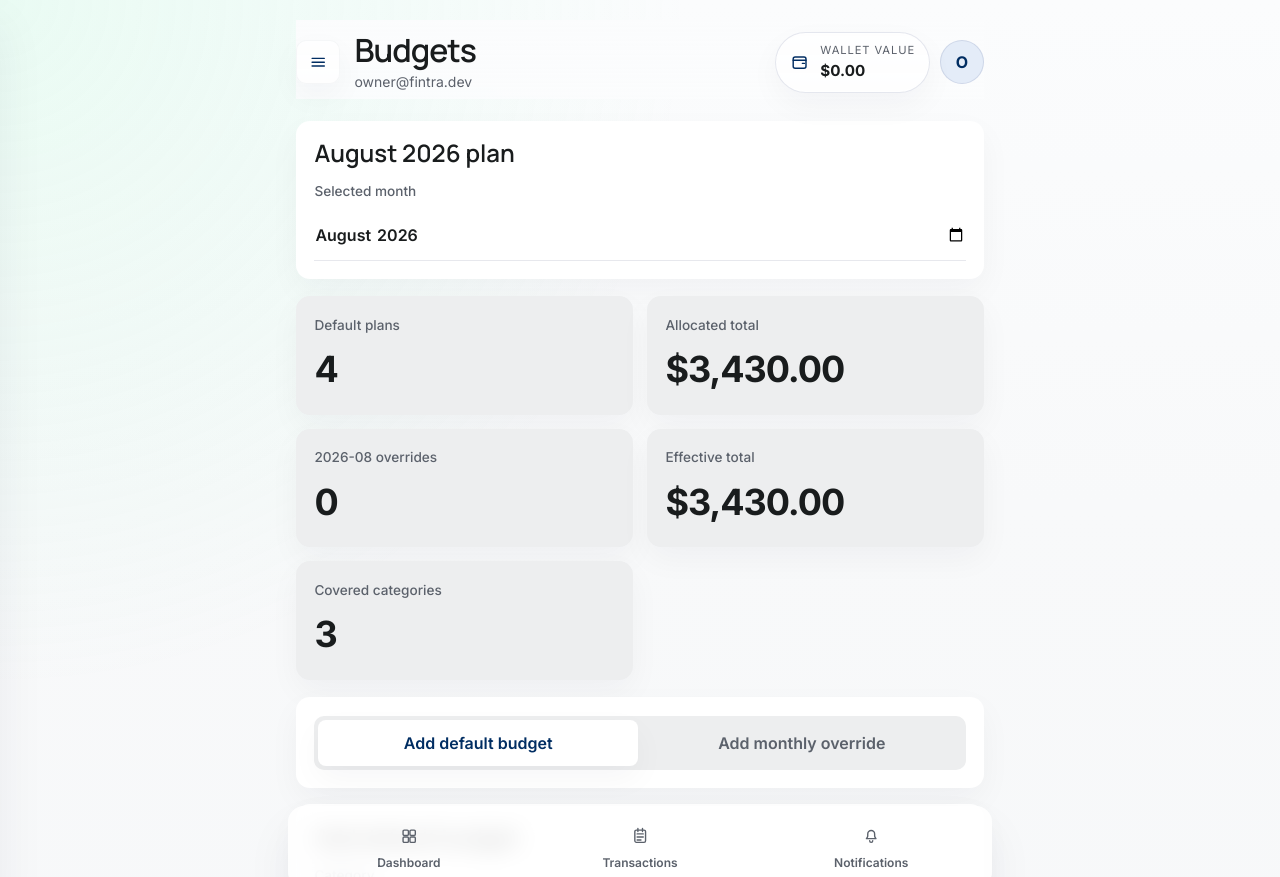
Test case: BudgetsPage › switches between default budget and monthly override tabs
The image size is (1280, 877).
Click the tab "Add monthly override": (802, 743) [642,720,962,766]
(page scrolled)
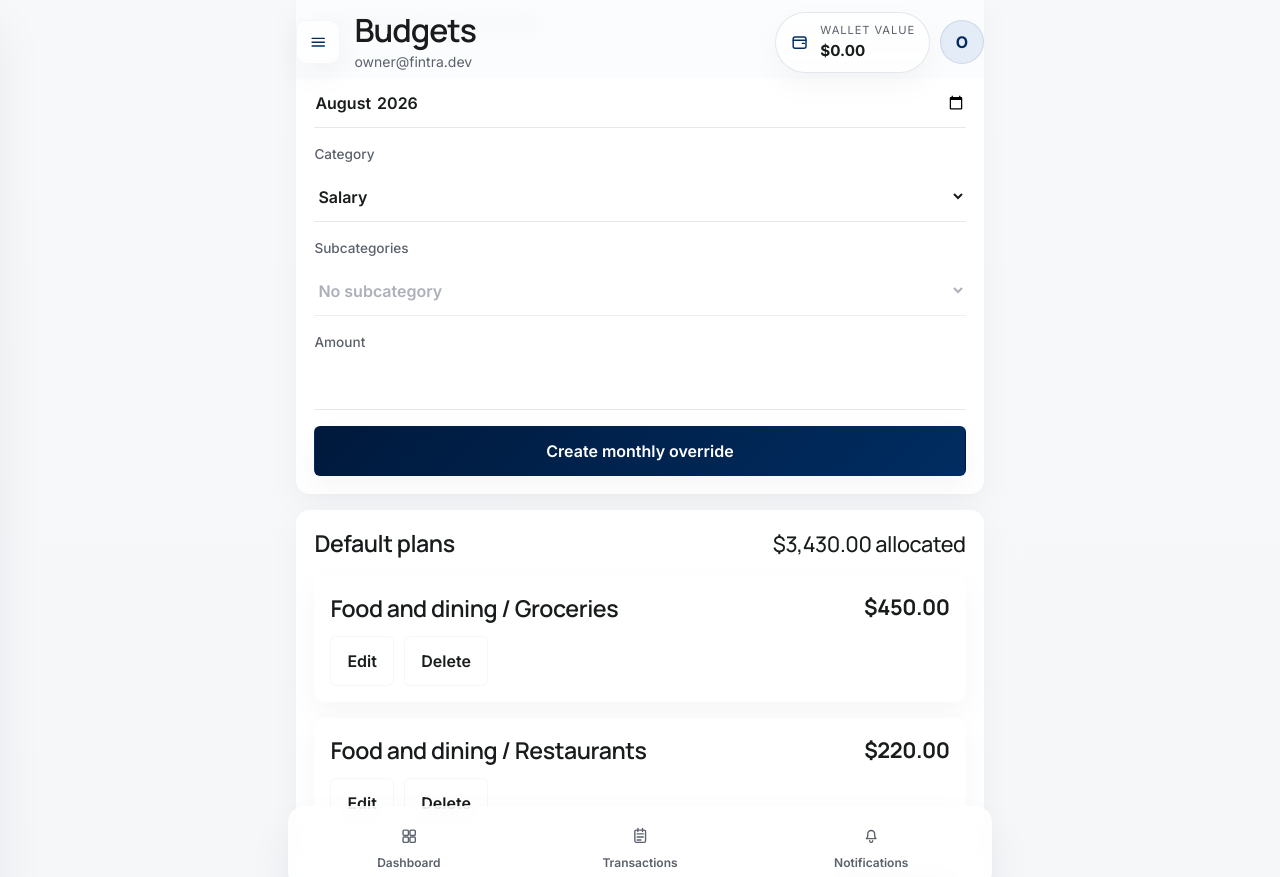
Now the button "Create monthly override" is shown, box [314,426,966,476]
